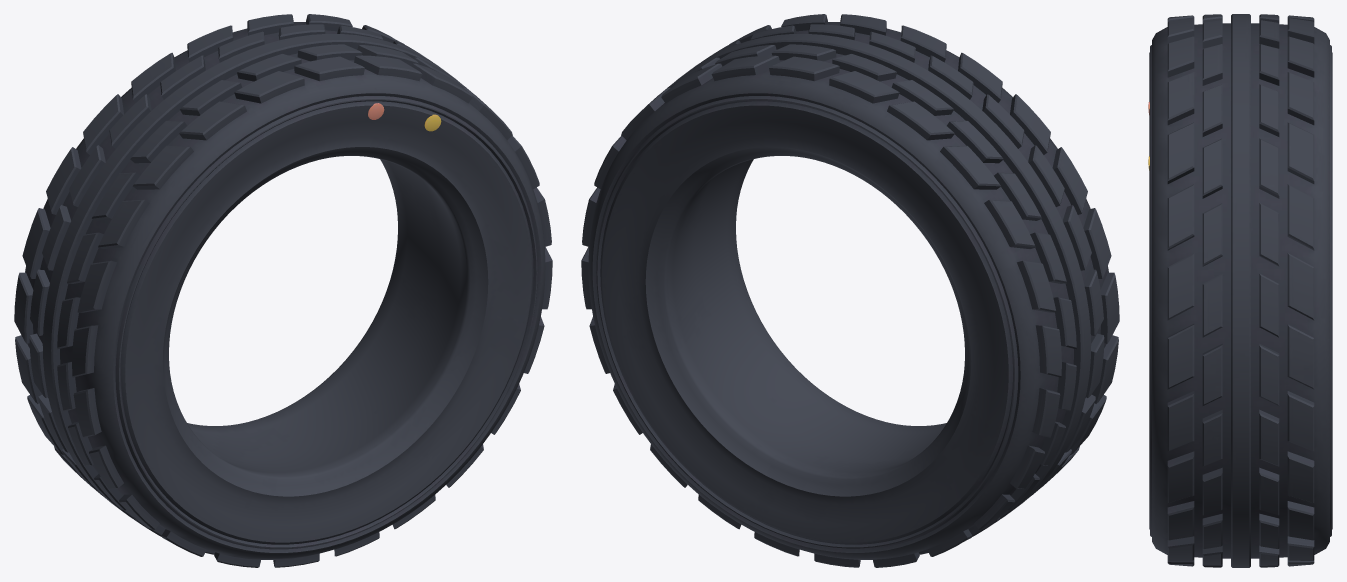
File: car-tire.glb
The picture shows the model from 3 angles, left to right: view 1: azimuth 30°, elevation 25°; view 2: azimuth 150°, elevation 25°; view 3: azimuth 270°, elevation 25°; orthographic projection.
Visible parts, largest first — view 1: car-tire_body; view 2: car-tire_body; view 3: car-tire_body.
Part boxes in pixels (x1,y1,x2,y2): car-tire_body: (14,14,552,567); car-tire_body: (581,14,1119,567); car-tire_body: (1148,14,1332,567).
Size of the model in its own units: 0.6498 by 0.6498 by 0.2161.
Materials: 1 (1 with a texture image).
